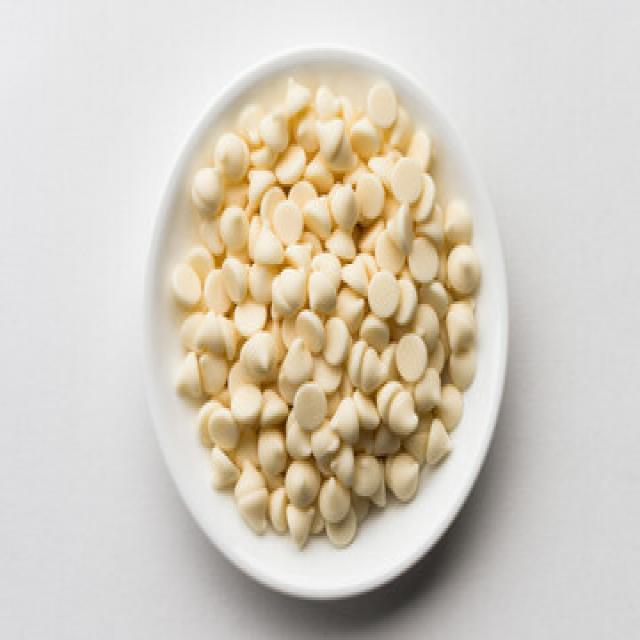Chocolate: (167, 59, 479, 554)
